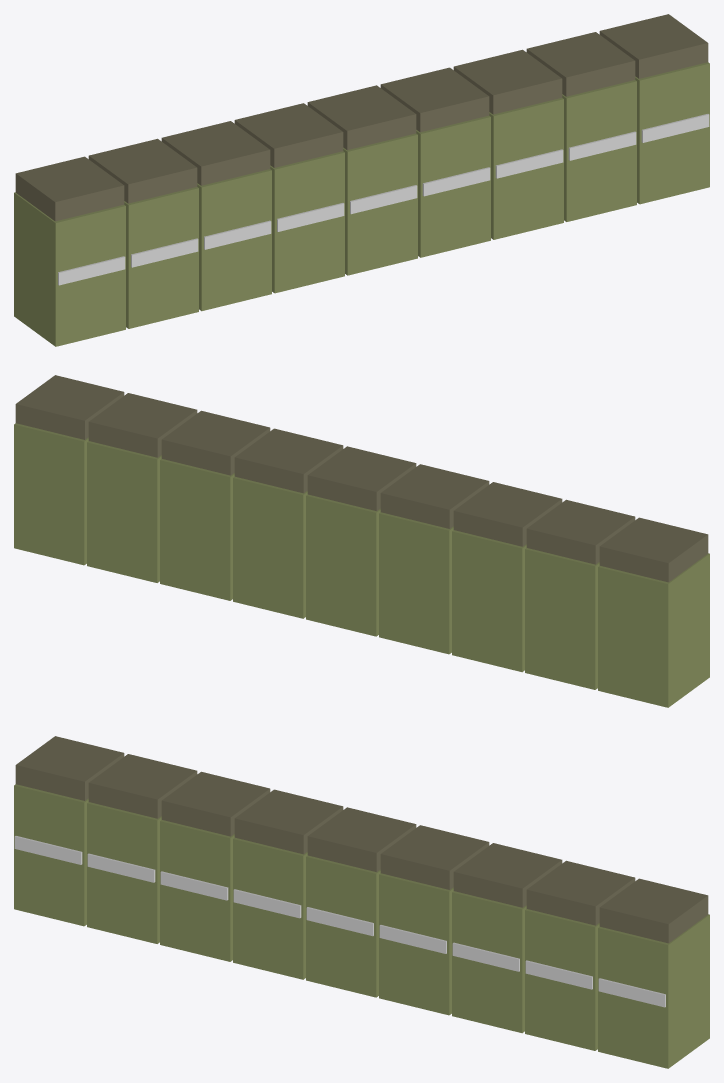
Rendered from SM_MuroHesco_v3_RemateSacos_e0_Sano_LOD1.fbx.
3 renders of one model, top to bottom at view 1: azimuth 30°, elevation 25°; view 2: azimuth 150°, elevation 25°; view 3: azimuth 330°, elevation 25°, orthographic.
Parts seen in each view (by area): view 1: SM_bloques.muro_hesco_estados_v12_LOD1; view 2: SM_bloques.muro_hesco_estados_v12_LOD1; view 3: SM_bloques.muro_hesco_estados_v12_LOD1.
Boxes of the visible parts, box(x1,y1,x2,y2) form: SM_bloques.muro_hesco_estados_v12_LOD1: box(14, 14, 709, 346); SM_bloques.muro_hesco_estados_v12_LOD1: box(14, 375, 709, 707); SM_bloques.muro_hesco_estados_v12_LOD1: box(14, 736, 709, 1068).
Bounding box in the file's own units: 9.96 × 2.09 × 1.13.
